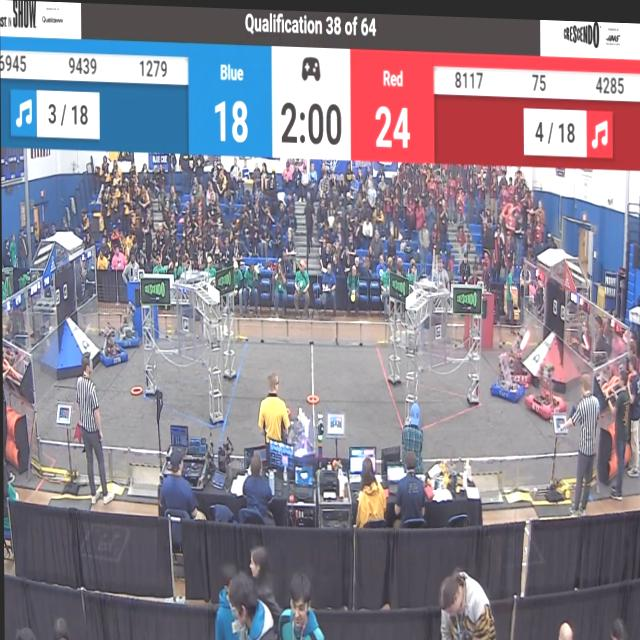Robot: (523, 351, 567, 417), (276, 394, 315, 465), (490, 331, 528, 401), (496, 312, 535, 378), (96, 305, 126, 369), (114, 299, 140, 348)
